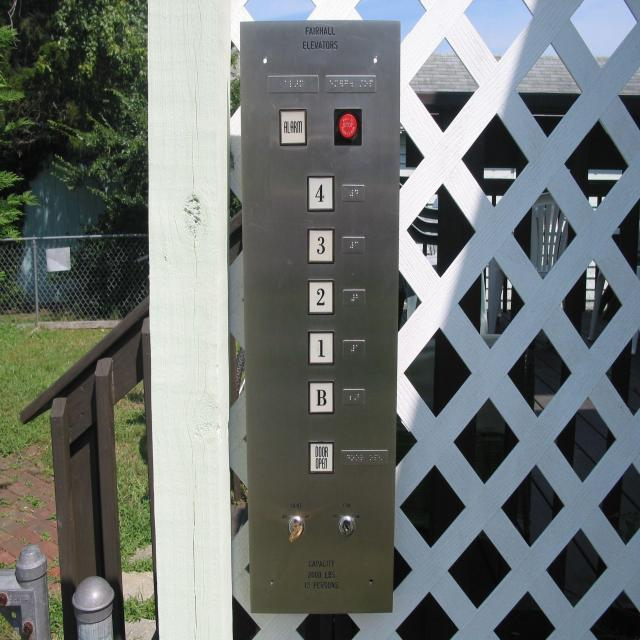1: (307, 330, 335, 366)
2: (307, 278, 335, 316)
3: (306, 226, 335, 265)
4: (306, 175, 335, 212)
B: (307, 380, 335, 414)
keyhole: (288, 515, 304, 542), (338, 515, 355, 536)
text: (307, 439, 335, 475)
text_alarm bell: (278, 107, 308, 148)
text_stop: (333, 108, 362, 146)
